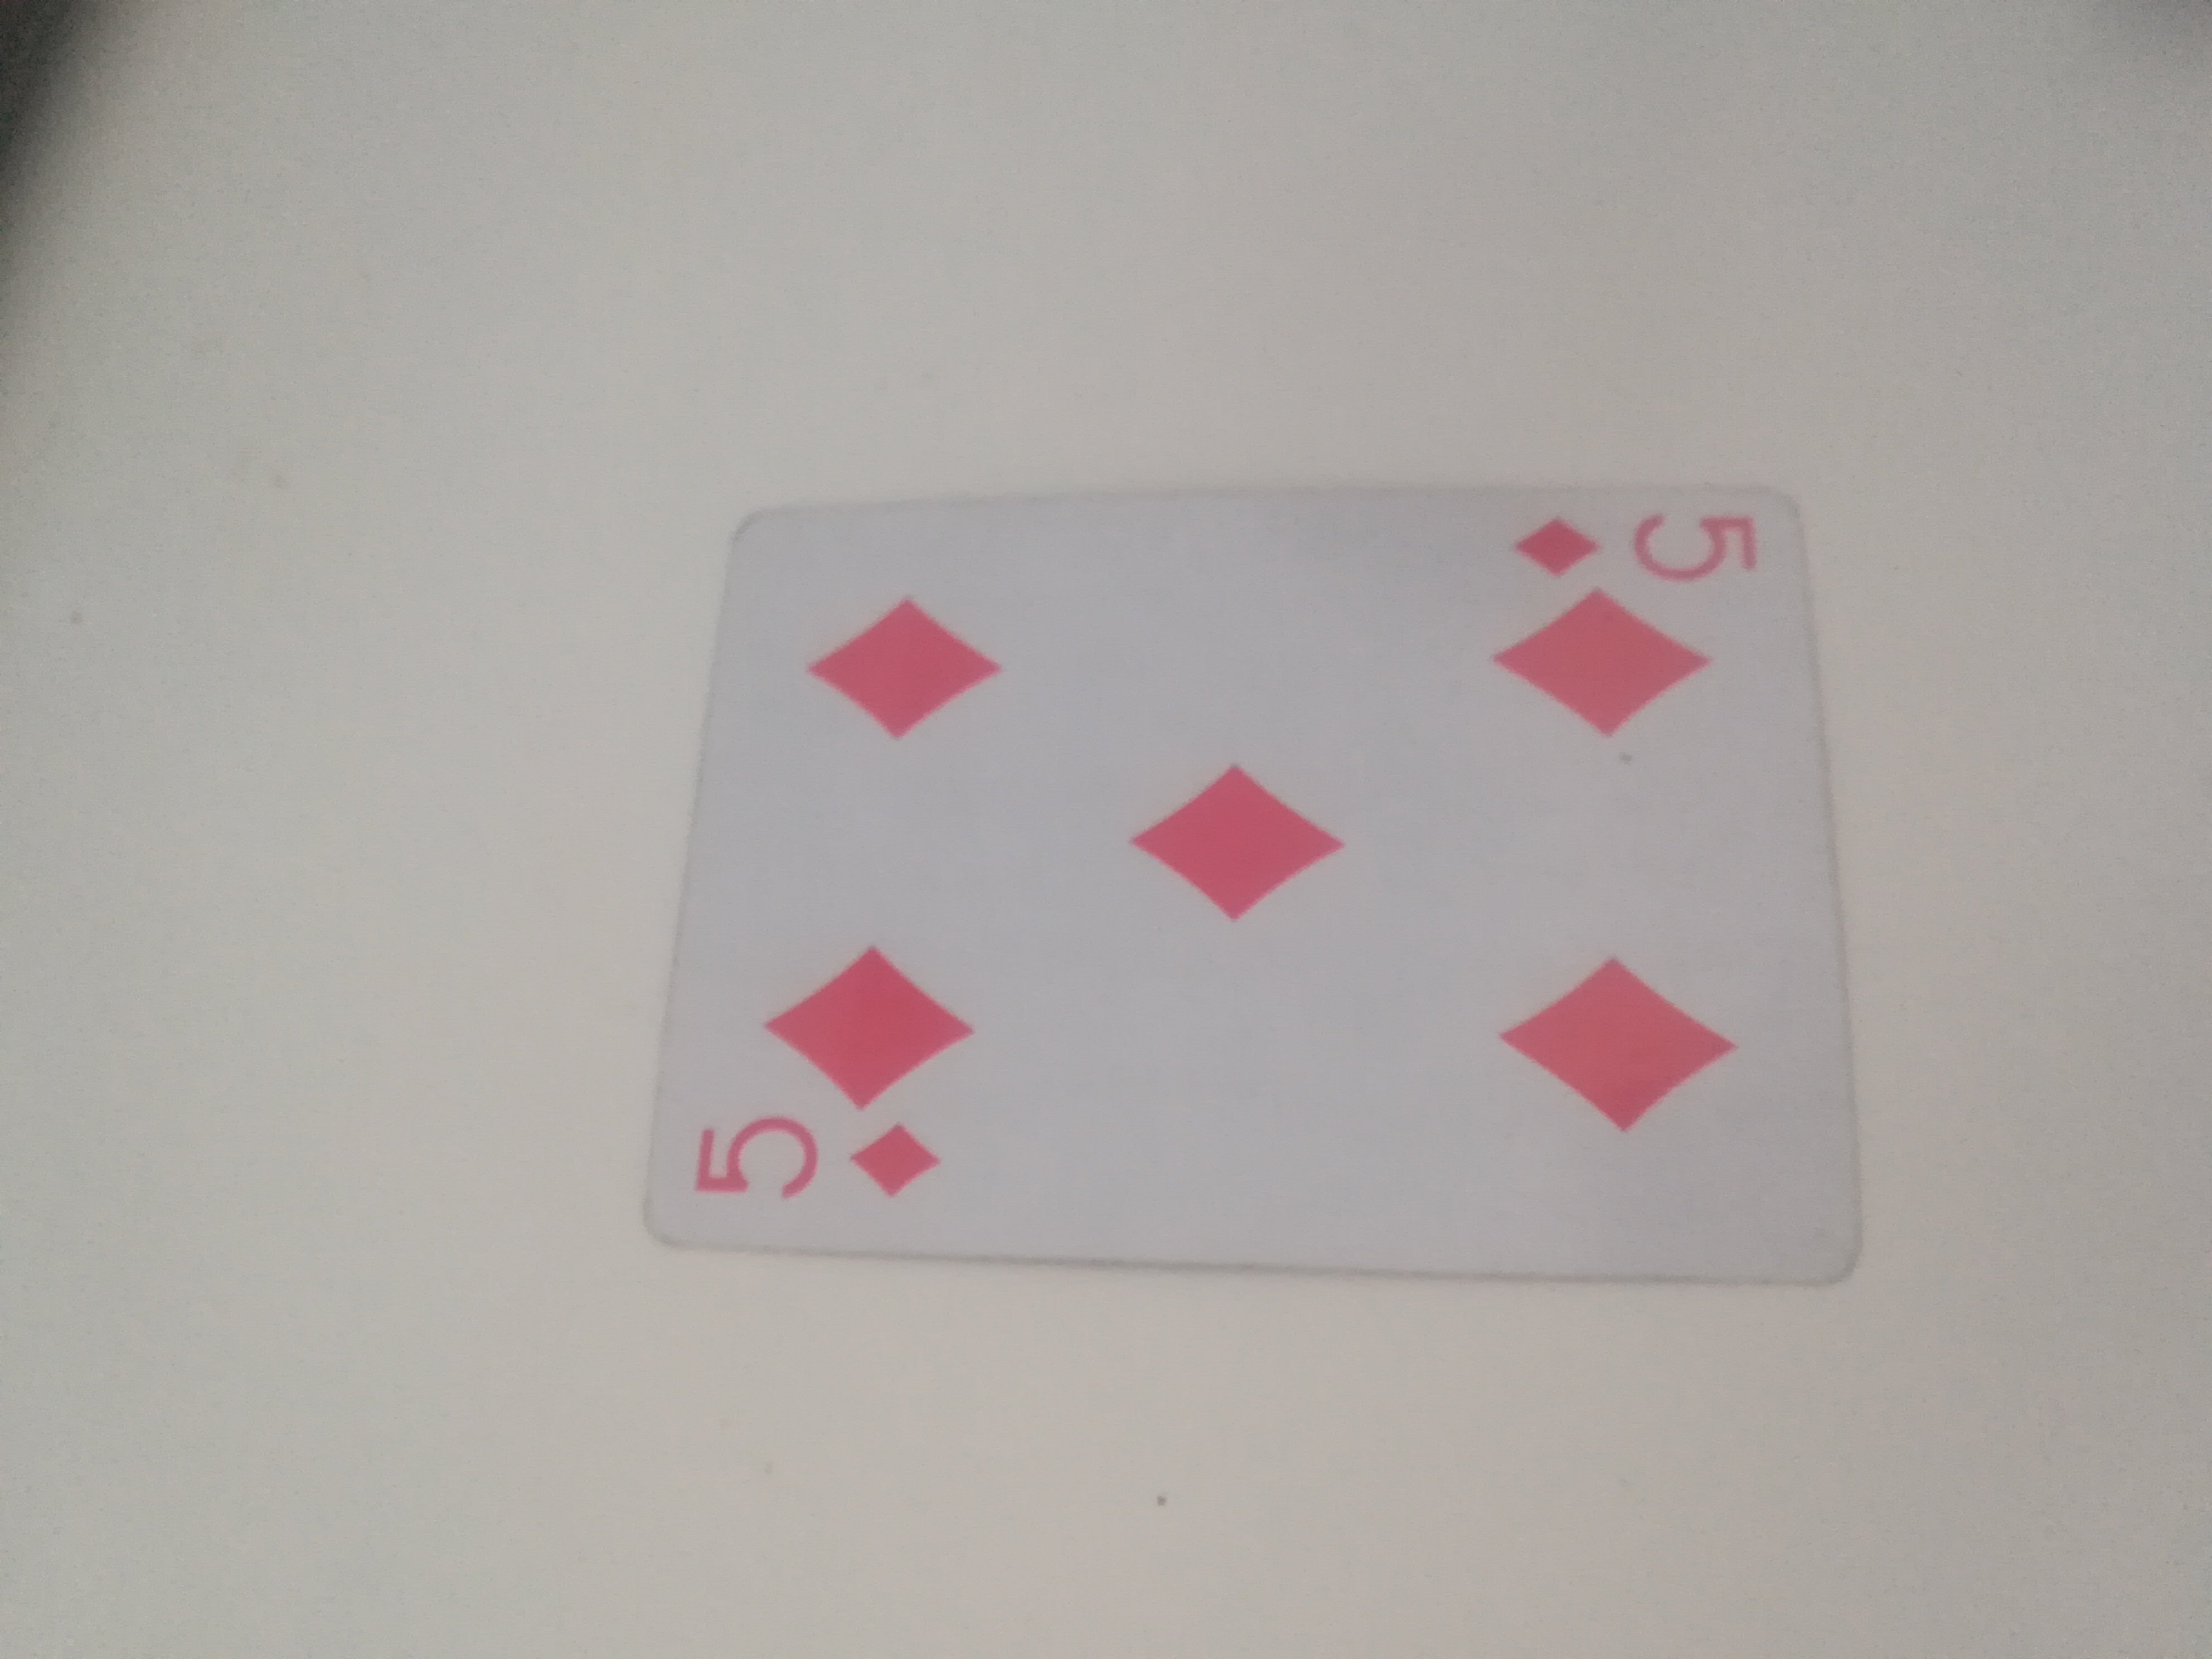5D: (639, 476, 1846, 1303)
